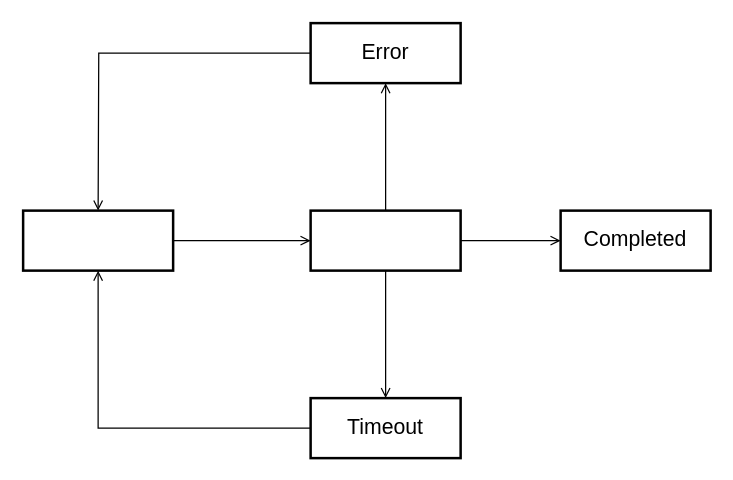
Some shapes in this 733 by 480 pixel diagram are drawn without their labels. The shapes that lost their labels are listed below. From the top down, each one's centre as x and y in pixels, then its label:
the point at 97,240: Pending
the point at 385,240: Running
